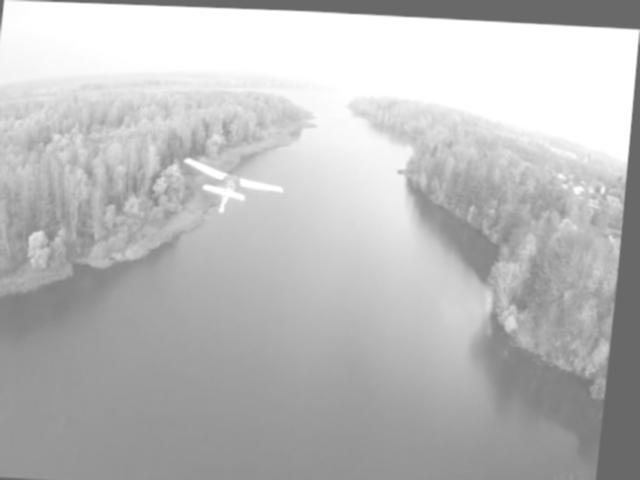hedef: (165, 146, 298, 223)
